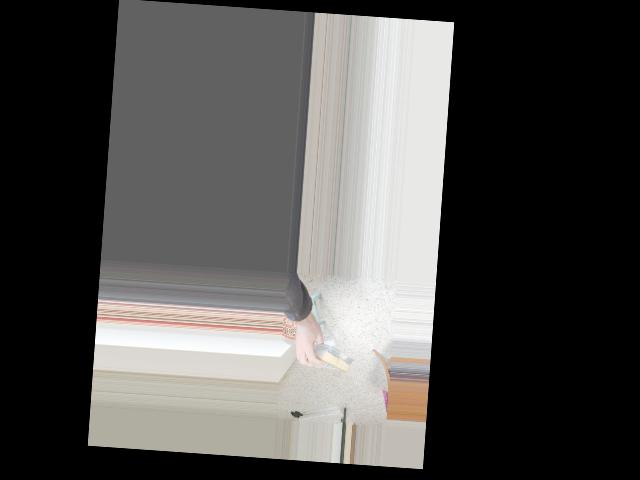cheese: (294, 340, 357, 372)
